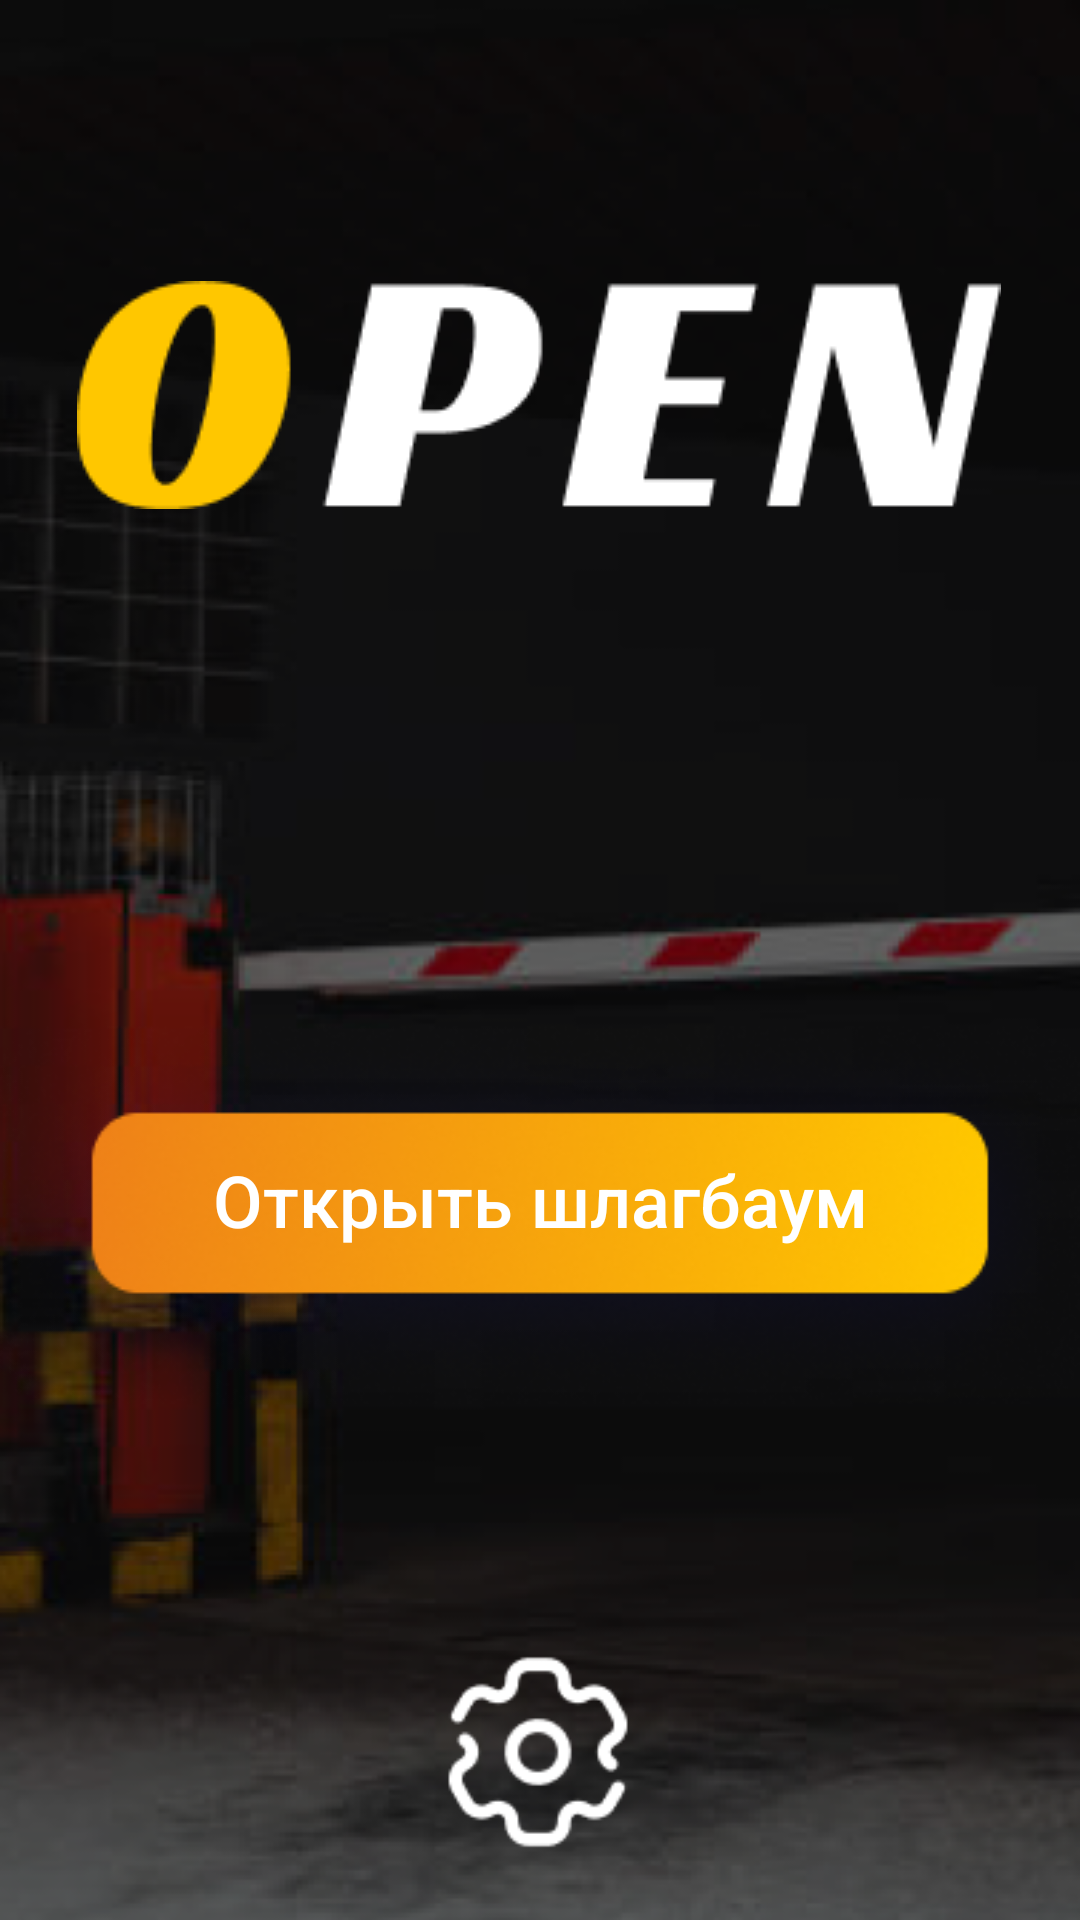

Point at icon controls on the screen. Image size 1080px×1920px, points as [x,y].
settings: [538,1752]
